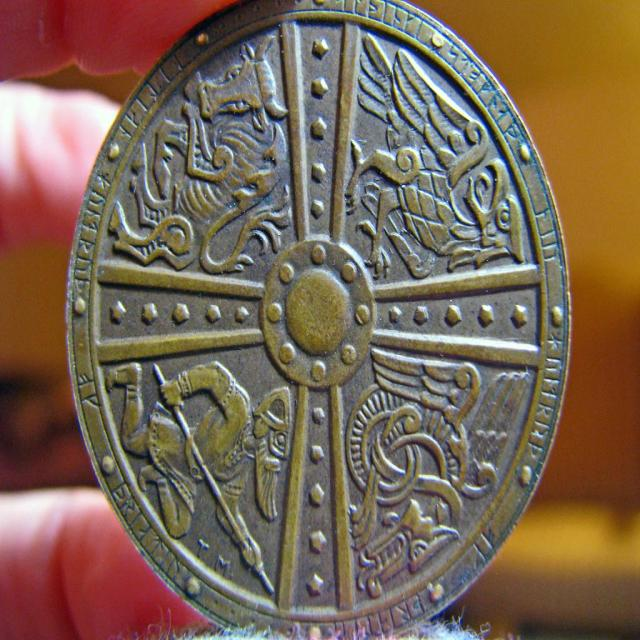Coin: (62, 0, 571, 639)
